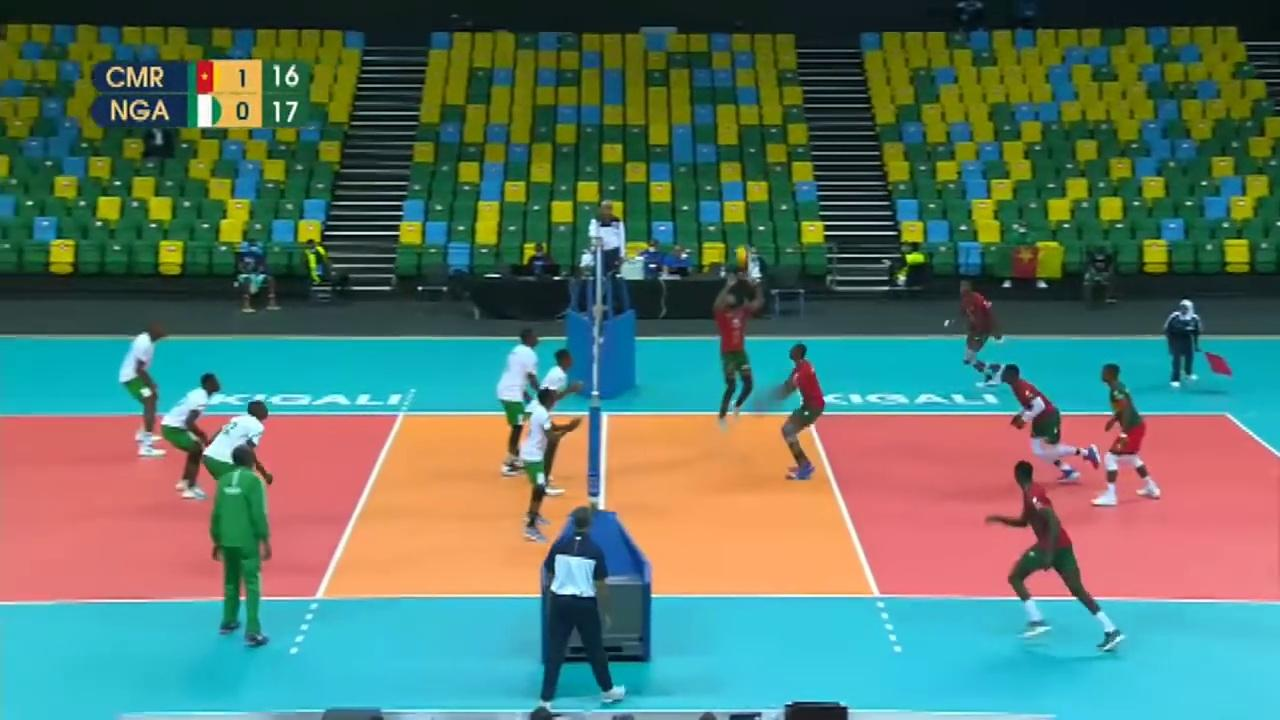player: (986, 462, 1130, 654), (998, 365, 1090, 484), (1094, 368, 1166, 504), (713, 266, 763, 426), (206, 400, 271, 511), (165, 369, 219, 497), (778, 345, 828, 480), (496, 332, 542, 476), (537, 349, 578, 495), (122, 326, 168, 454), (525, 391, 556, 541), (960, 281, 1003, 384)
refree: (533, 499, 643, 714), (1163, 299, 1213, 392), (585, 199, 629, 304)
